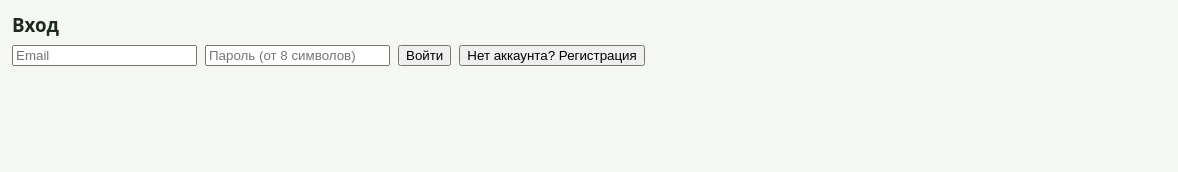
Test case: LoginForm › 429: показывает текст из ответа сервера, а не «что-то пошло не так»
Type "a@test.kz" into the field labelled "Email".
click(104, 56); type("a@test.kz")  # box left=12, top=45, right=197, bottom=66
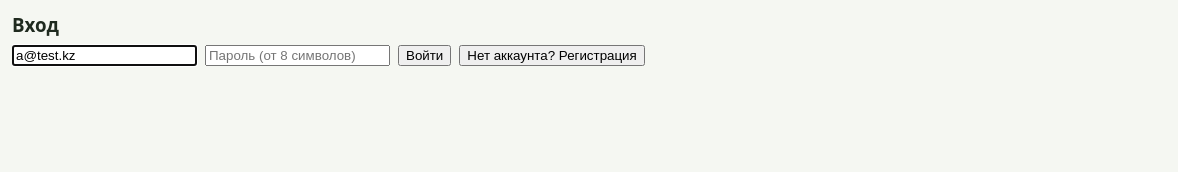
Type "wrong-password" into the password field labelled "Пароль".
click(298, 56); type("wrong-password")  # box left=205, top=45, right=390, bottom=66
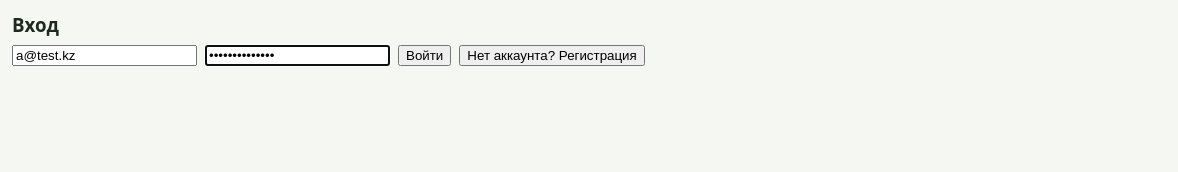
Click the button "Войти".
click(425, 56)  # box left=398, top=45, right=451, bottom=66
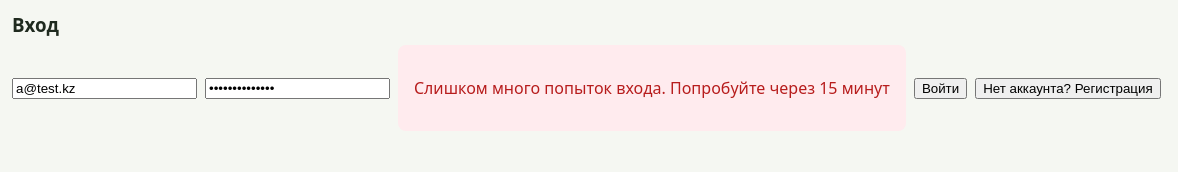
Check: the text "Слишком много попыток входа. Попробуйте через 15 минут" is shown, box left=414, top=77, right=890, bottom=99
